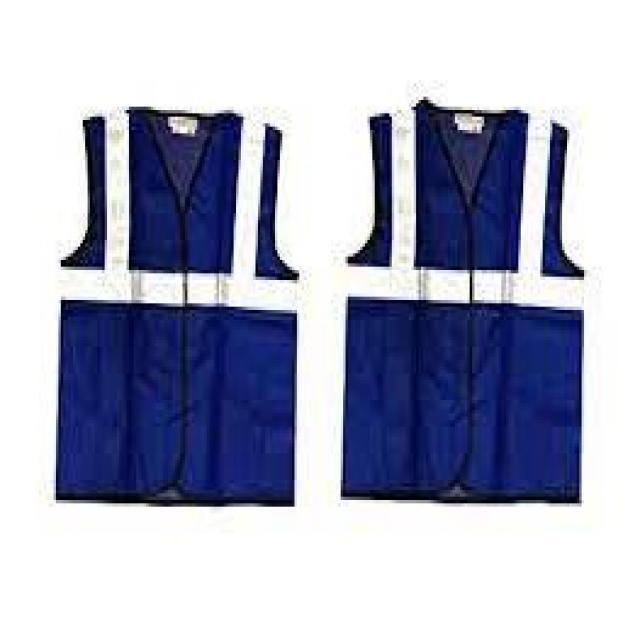reflective_jacket: (46, 83, 304, 523), (329, 80, 587, 520)
